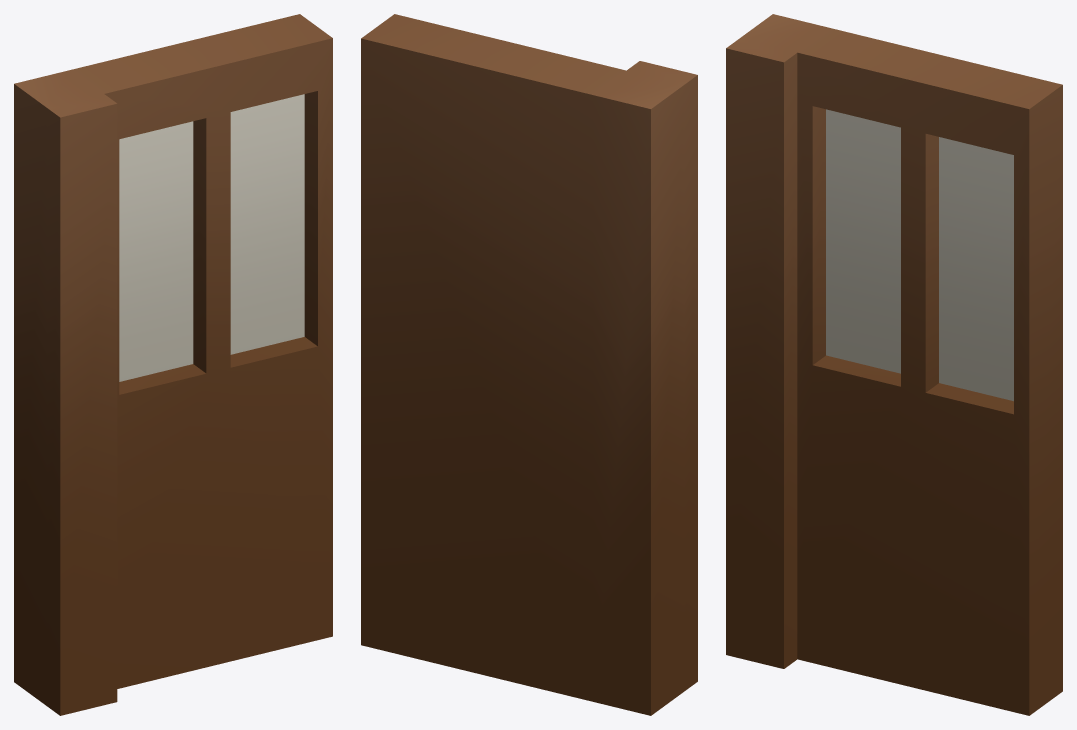
The model's file is House_Wall_1m_Window.gltf.
The picture shows the model from 3 angles, left to right: view 1: azimuth 30°, elevation 25°; view 2: azimuth 150°, elevation 25°; view 3: azimuth 330°, elevation 25°; orthographic projection.
Parts seen in each view (by area): view 1: House_Wall_1m_Window; view 2: House_Wall_1m_Window; view 3: House_Wall_1m_Window.
Part boxes in pixels (left/top/right/bottom): House_Wall_1m_Window: left=14, top=14, right=332, bottom=715; House_Wall_1m_Window: left=361, top=14, right=697, bottom=715; House_Wall_1m_Window: left=726, top=14, right=1062, bottom=715.
Bounding box in the file's own units: 1 × 2 × 0.28.
1 material, 1 textured.
